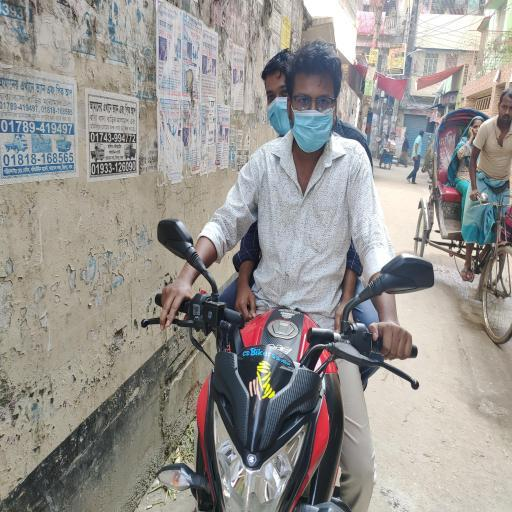no helmet: (280, 42, 353, 185)
